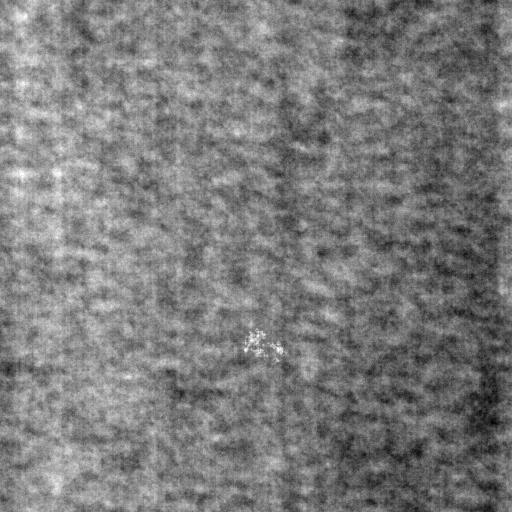stain: (239, 323, 289, 365)
